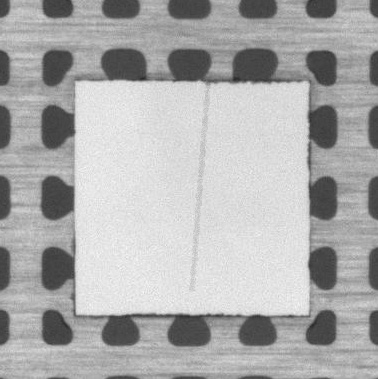DIE_CRACK: (191, 84, 207, 292)
